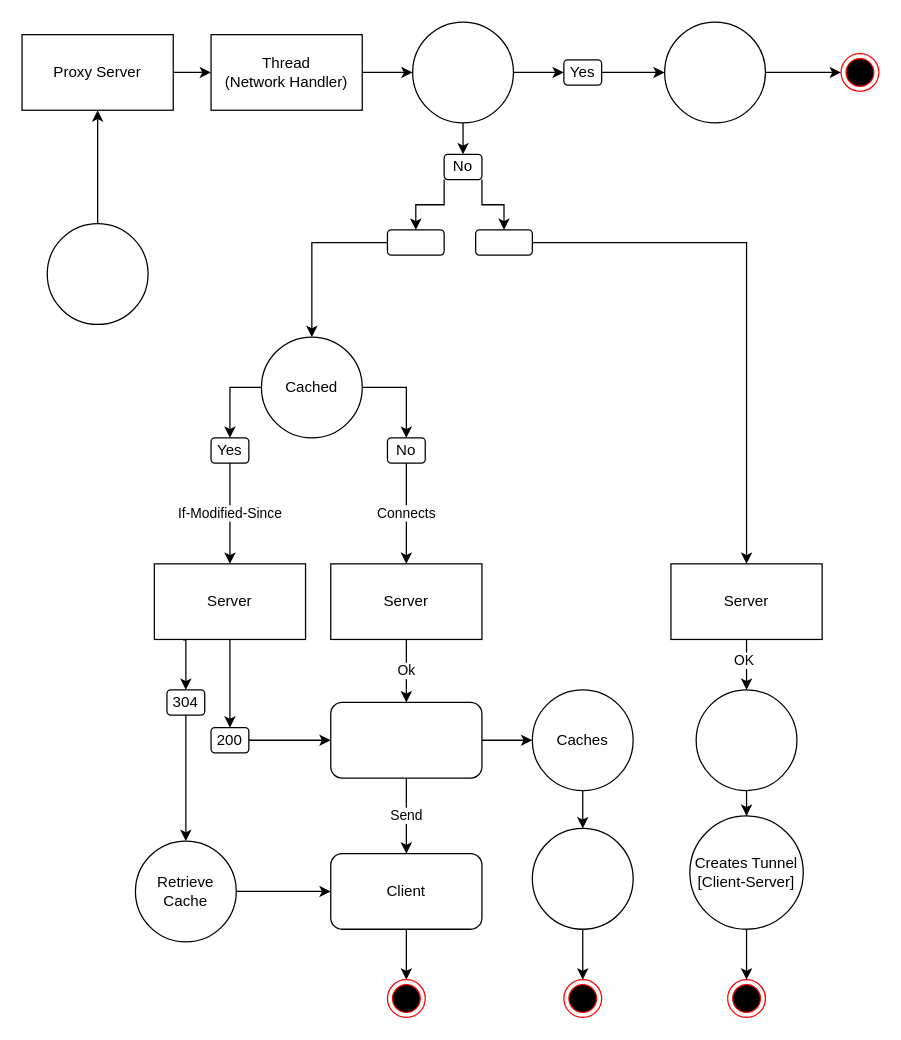
This 901x1040 diagram has some shape labels left out. The centre of each missing label's shape, as x and y in pixels:
"200 to Client" goes at pixel 746 740.
"403 to Client" goes at pixel 714 72.
"Blocked" goes at pixel 462 72.
"Hire cache killer" goes at pixel 582 878.
"HTTP" goes at pixel 415 242.
"HTTPS" goes at pixel 503 242.
"New Connection" goes at pixel 97 273.
"Proxy [Buffers]" goes at pixel 405 739.
